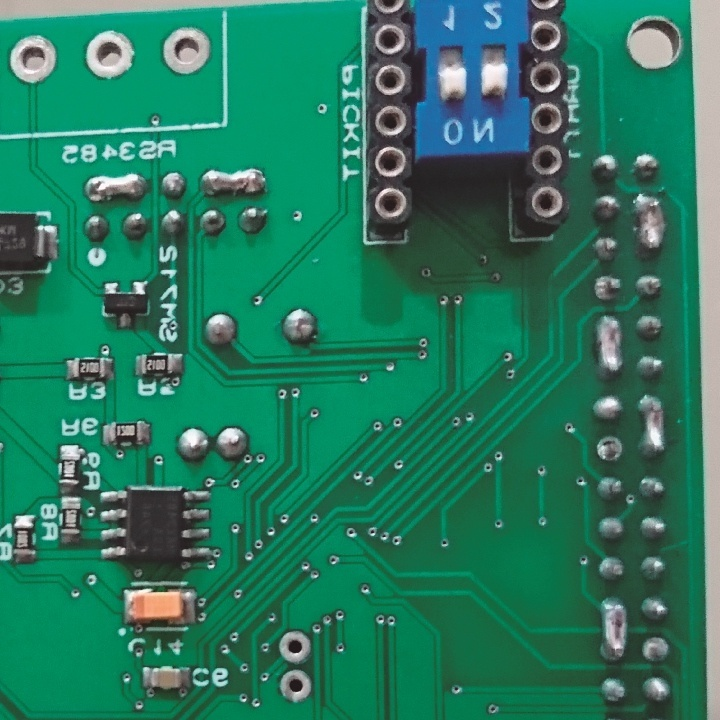F: (79, 28, 140, 83), (159, 25, 217, 80), (7, 32, 60, 89), (277, 663, 315, 706), (277, 627, 312, 665), (593, 432, 624, 467), (642, 632, 671, 663)
P: (596, 592, 633, 666), (632, 191, 667, 255), (198, 167, 267, 199), (82, 172, 146, 205), (636, 394, 670, 456), (595, 311, 623, 377)
